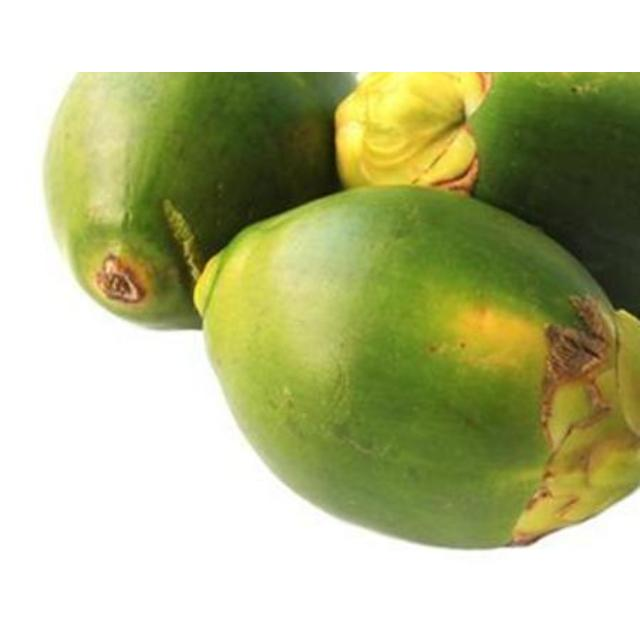good: (192, 186, 639, 551), (41, 72, 358, 332), (334, 72, 639, 321)
